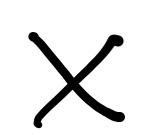mult: (28, 32, 125, 128)
